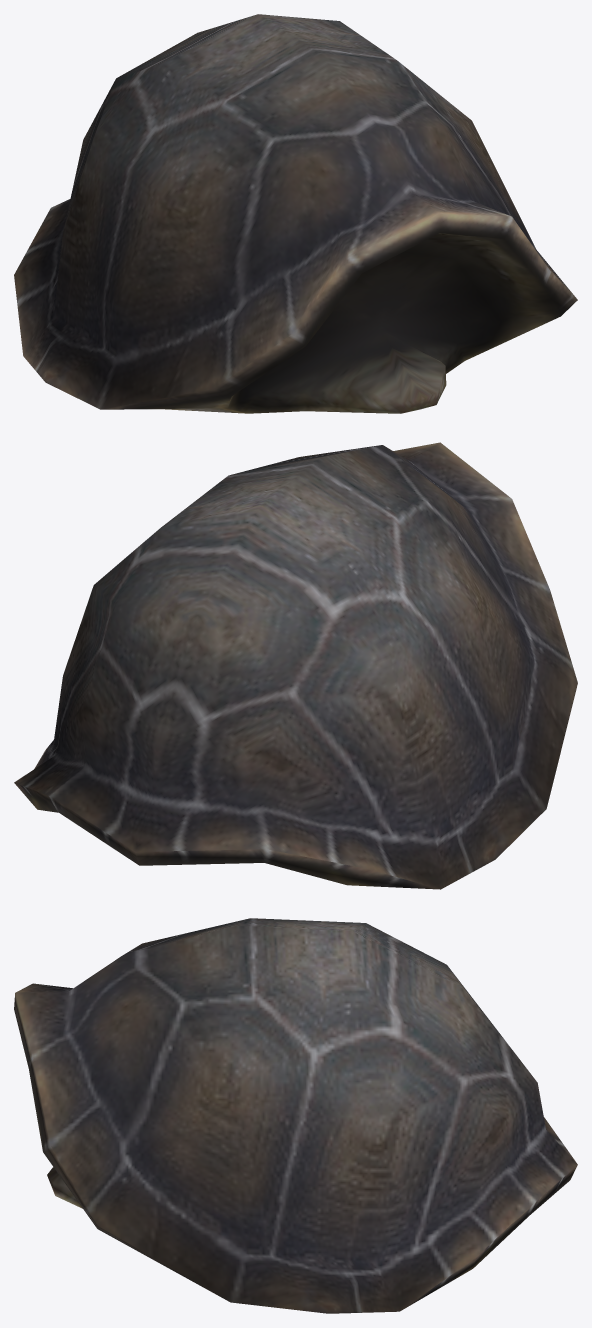
The picture shows the model from 3 angles, top to bottom: view 1: azimuth 30°, elevation 25°; view 2: azimuth 150°, elevation 25°; view 3: azimuth 270°, elevation 25°; orthographic projection. The views are drawn at different scales.
Visible parts, largest first — view 1: 293618; view 2: 293618; view 3: 293618.
Boxes of the visible parts, bbox=[...] form: 293618: bbox=[14, 14, 577, 413]; 293618: bbox=[14, 442, 577, 889]; 293618: bbox=[14, 918, 577, 1313].
Bounding box in the file's own units: 153 × 180 × 110.
